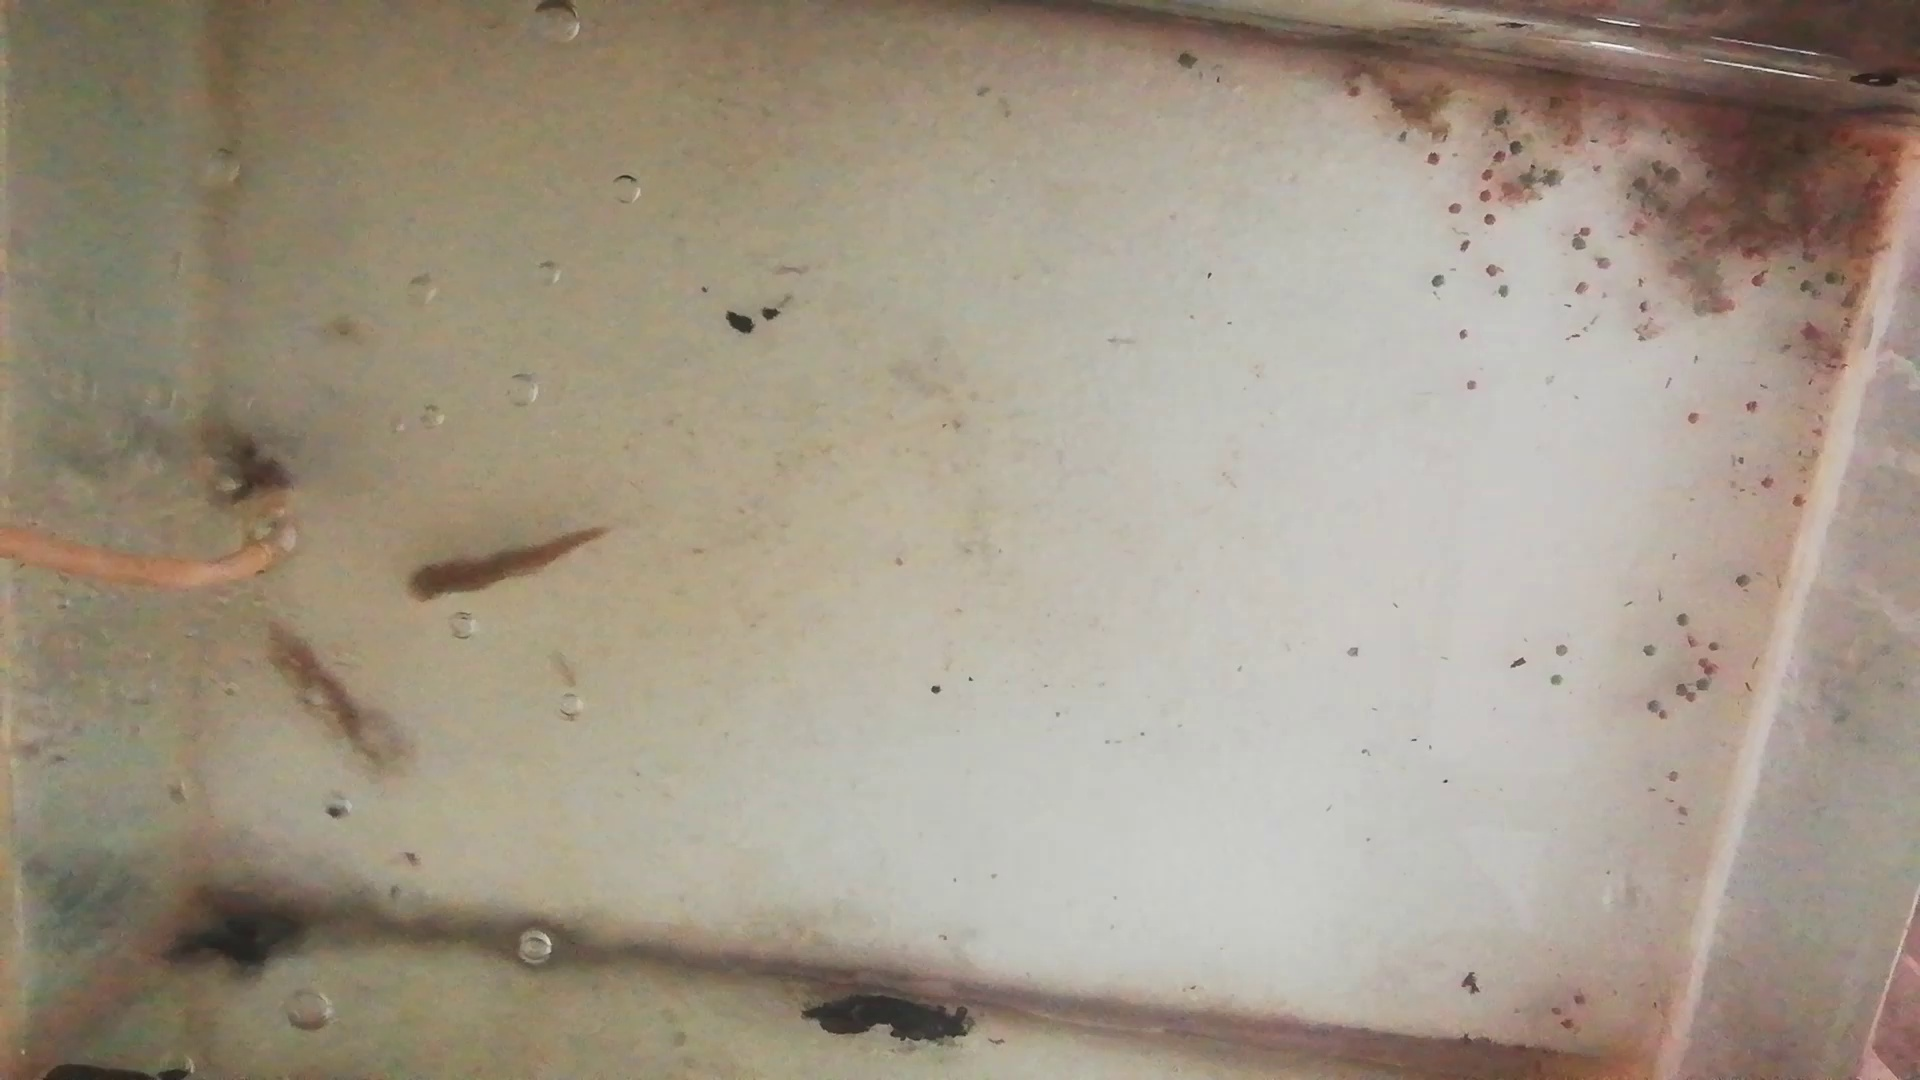fish: (262, 617, 402, 777), (407, 531, 603, 600)
